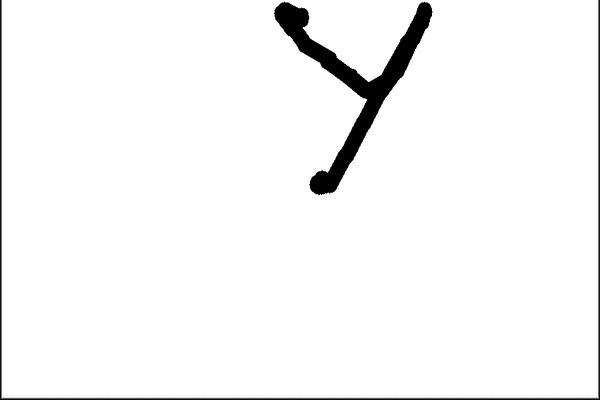Y: (263, 0, 448, 201)
